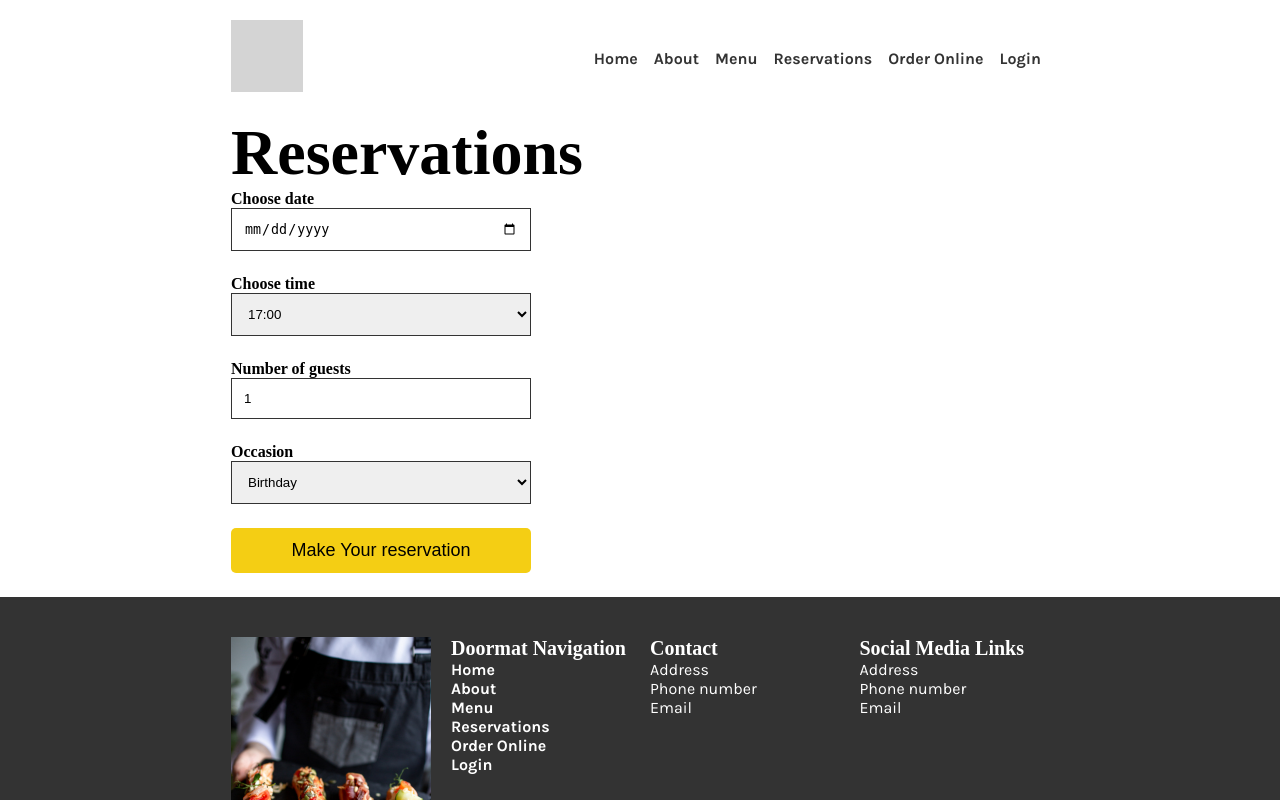
Scenario: BookingPage › should render date error if date is not filled
This screenshot has width=1280, height=800.
Click the button with aria-label "on click": click(381, 551) [231,528,531,573]
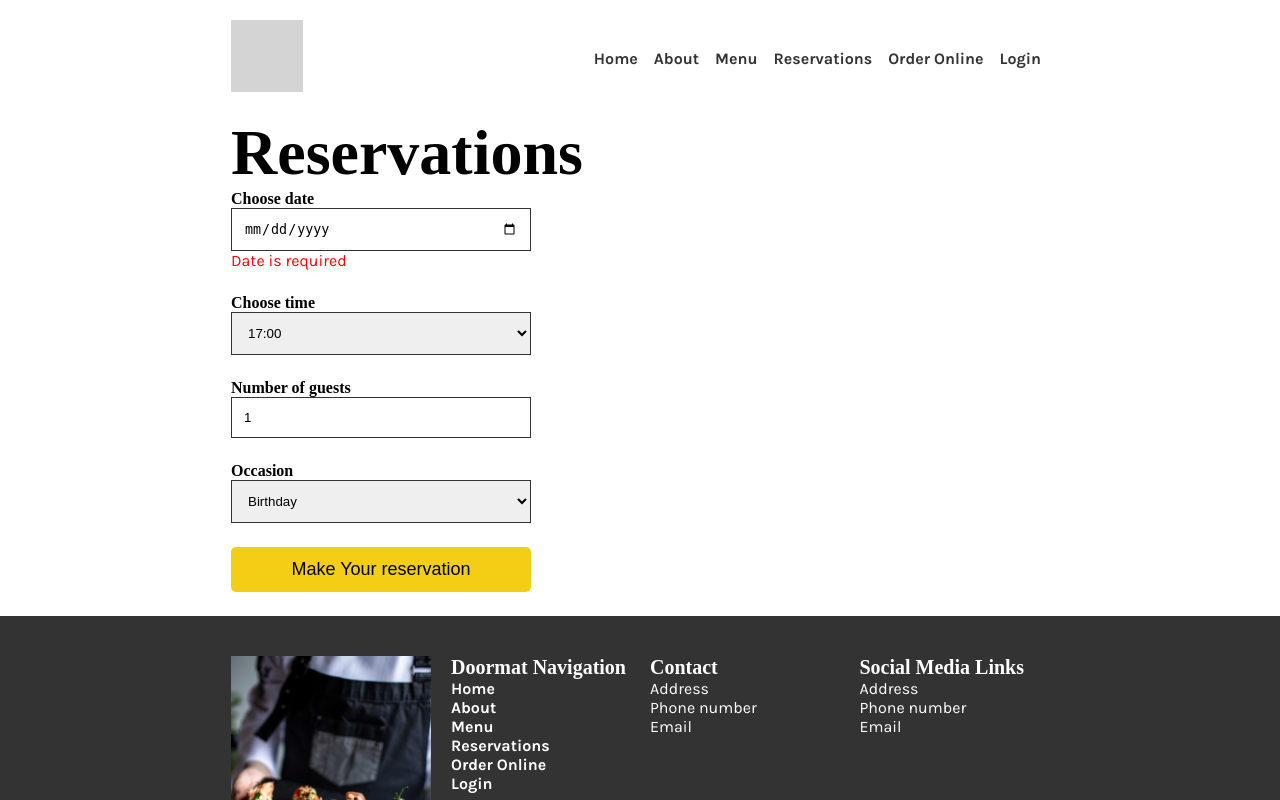
Result: the text "Date is required" is shown at [231,251,347,270]
